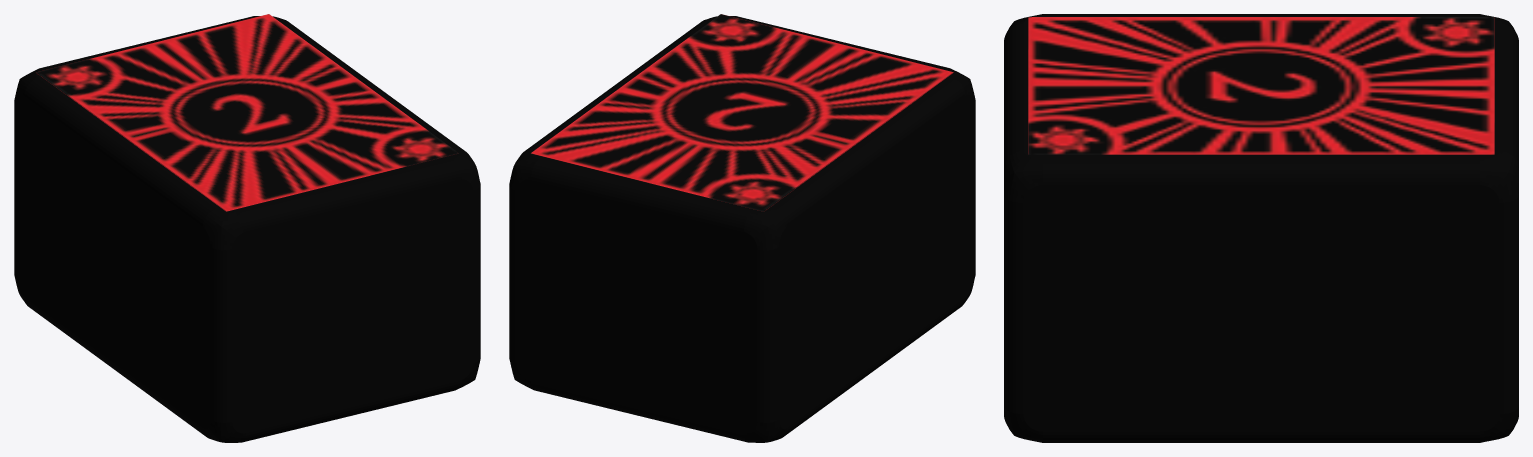
The model's file is Tile.fbx.
The picture shows the model from 3 angles, left to right: view 1: azimuth 30°, elevation 25°; view 2: azimuth 150°, elevation 25°; view 3: azimuth 270°, elevation 25°; orthographic projection. The views are drawn at different scales.
Parts seen in each view (by area): view 1: Cube, Plane; view 2: Cube, Plane; view 3: Cube, Plane.
Part boxes in pixels (<box>): Cube: <box>14,16,480,442</box>; Plane: <box>36,14,458,211</box>; Cube: <box>509,16,975,442</box>; Plane: <box>531,14,953,211</box>; Cube: <box>1004,14,1518,442</box>; Plane: <box>1028,17,1494,154</box>.
Bounding box in the file's own units: 195 × 162 × 265.
